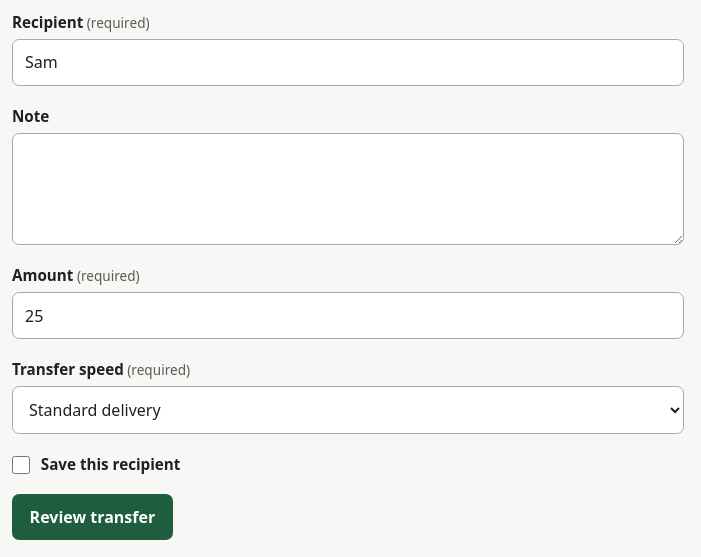
Test: ConfirmationGate required policy › enters an accessible ordered review without executing
Click the button "Review transfer" at point(92, 517), box [12,494,173,540]
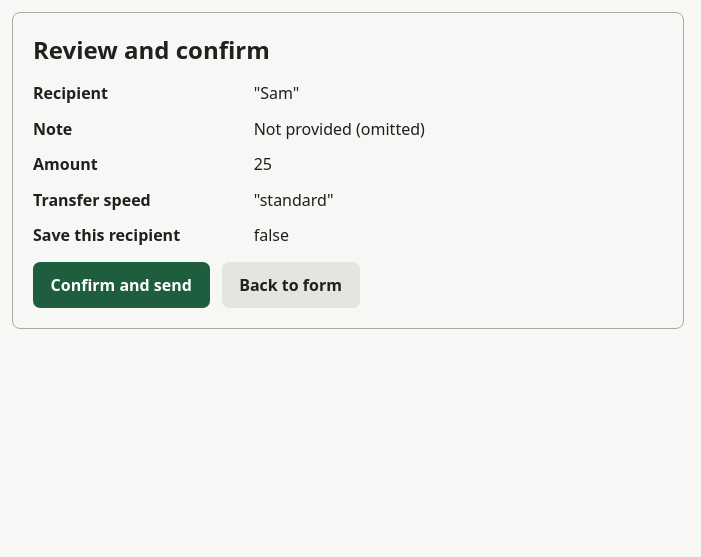
Expected: the button "Confirm and send" is enabled, [33,262,210,308]
Expected: the button "Back to form" is enabled, [222,262,360,308]
